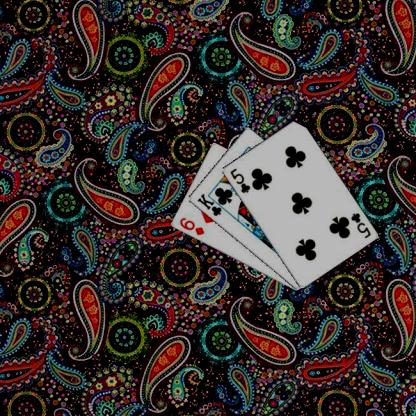5C: (227, 165, 252, 195), (347, 210, 372, 239)
6D: (176, 215, 206, 236)
KC: (194, 191, 228, 217)
